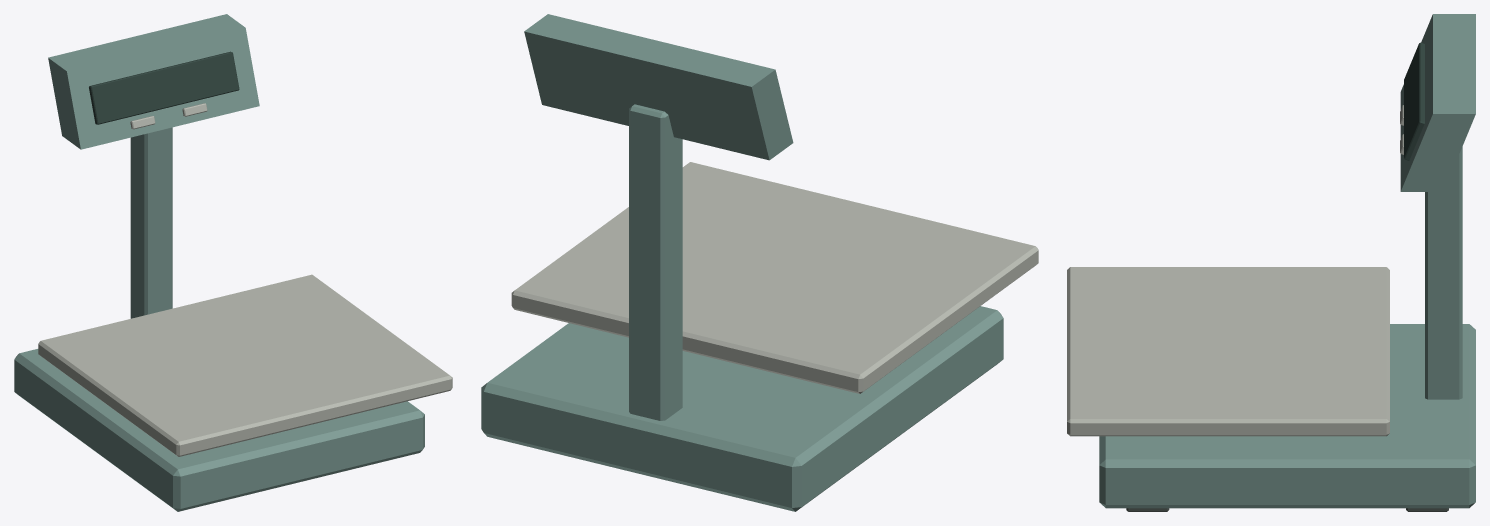
3 views of the same model, side by side, from view 1: azimuth 30°, elevation 25°; view 2: azimuth 150°, elevation 25°; view 3: azimuth 270°, elevation 25° (orthographic). The views are drawn at different scales.
Visible parts, largest first — view 1: Parcel weighing platform, Scale base housing, Static inclined display head, Rear display stem, Recessed static display face; view 2: Parcel weighing platform, Scale base housing, Static inclined display head, Rear display stem; view 3: Parcel weighing platform, Scale base housing, Static inclined display head, Rear display stem, Recessed static display face.
Part boxes in pixels (x1,y1,x2,y2): Parcel weighing platform: (38,274,452,456); Scale base housing: (14,349,424,511); Static inclined display head: (48,14,259,149); Rear display stem: (130,127,172,318); Recessed static display face: (89,51,239,124); Parcel weighing platform: (511,162,1038,393); Scale base housing: (481,306,1003,511); Static inclined display head: (524,14,793,160); Rear display stem: (629,104,682,420); Parcel weighing platform: (1067,267,1389,436); Scale base housing: (1099,324,1475,508); Static inclined display head: (1400,14,1475,191); Rear display stem: (1425,147,1462,399); Recessed static display face: (1404,42,1424,160).
Bounding box in the file's own units: 0.34 × 0.395 × 0.38.
